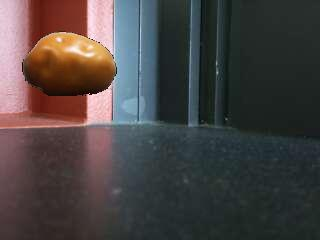Potato: (23, 32, 118, 98)
